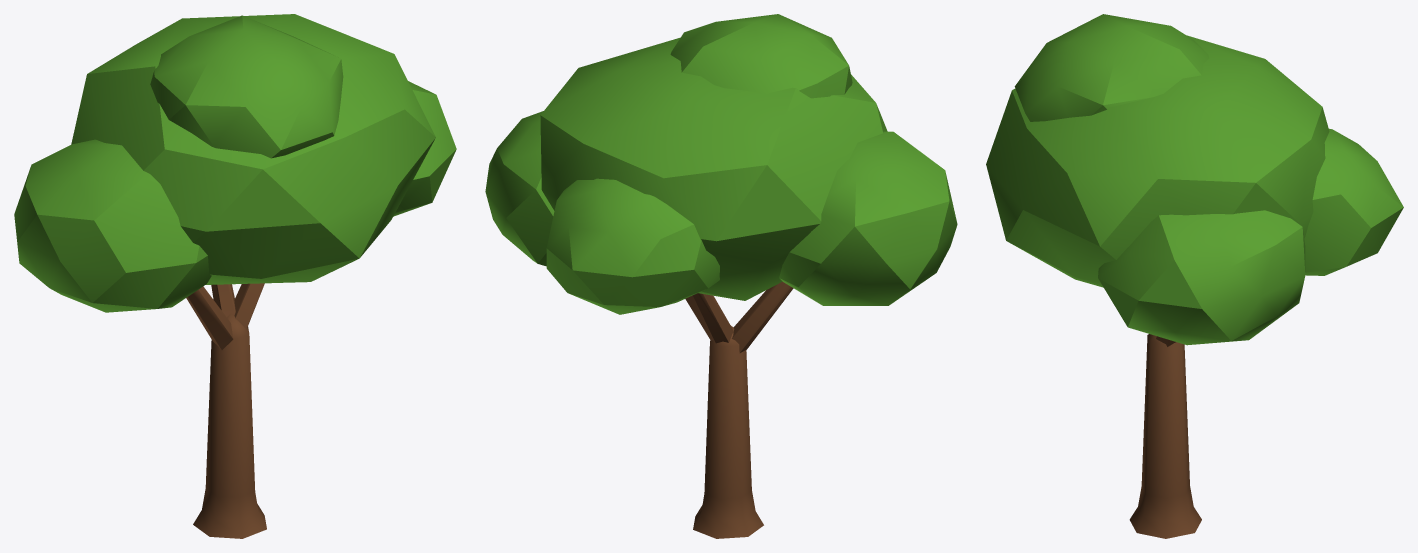
Rendered from tree_maple_b.glb.
3 renders of one model, left to right at view 1: azimuth 30°, elevation 25°; view 2: azimuth 150°, elevation 25°; view 3: azimuth 270°, elevation 25°, orthographic. The views are drawn at different scales.
Parts seen in each view (by area): view 1: tree; view 2: tree; view 3: tree.
Part boxes in pixels (x1,y1,x2,y2): tree: (14,14,456,538); tree: (485,14,957,538); tree: (986,14,1403,538).
Bounding box in the file's own units: 5.81 × 6.35 × 4.88.
